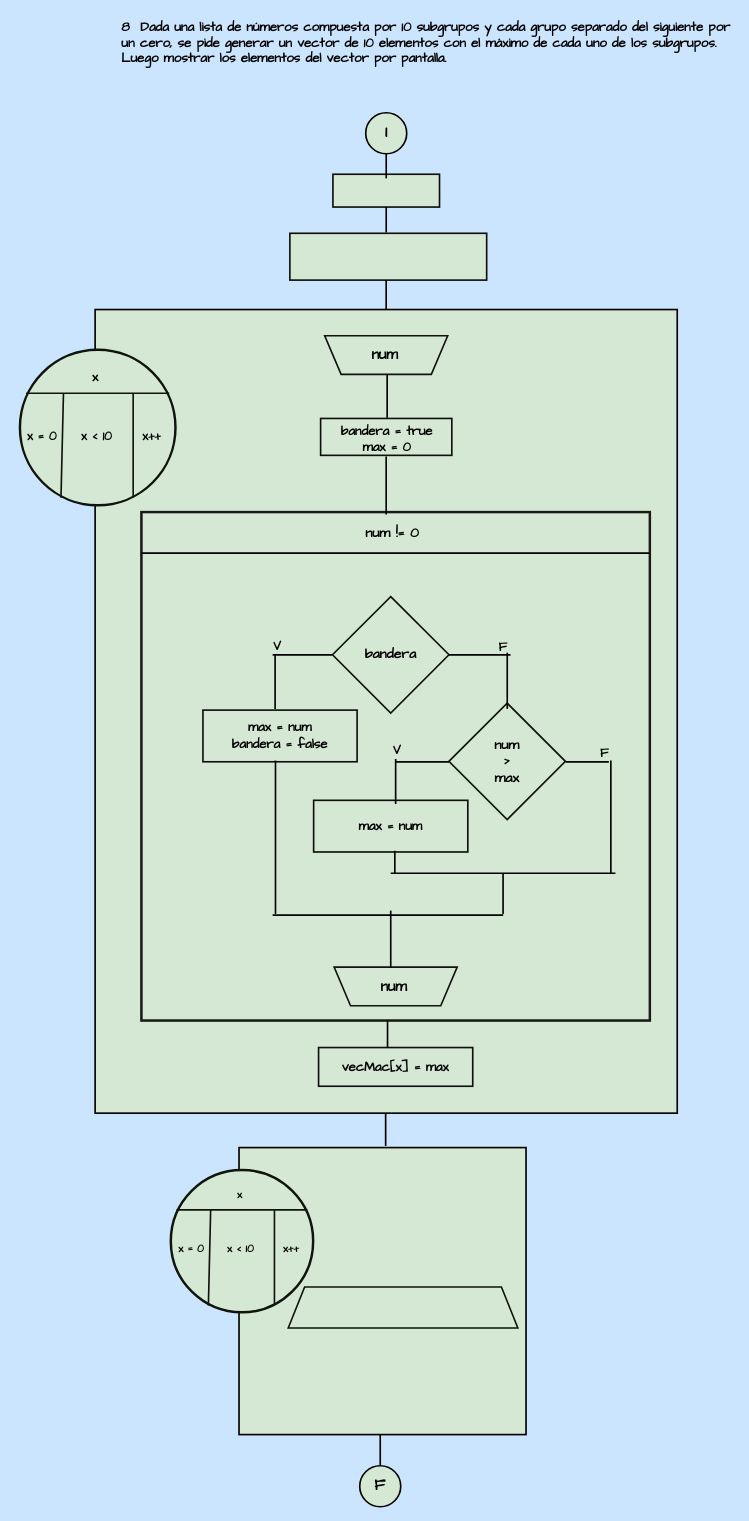
Image size: 749x1521. Some labels were removed from this diagram. The centre of each missing label's shape, as x and y in pixels:
"El máximo de cada subgrupo: ", vecMax[x]: point (402, 1307)
int num, x = 0, max = 0 bool bandera = true: point (388, 256)
int vecMax[10]: point (386, 190)
